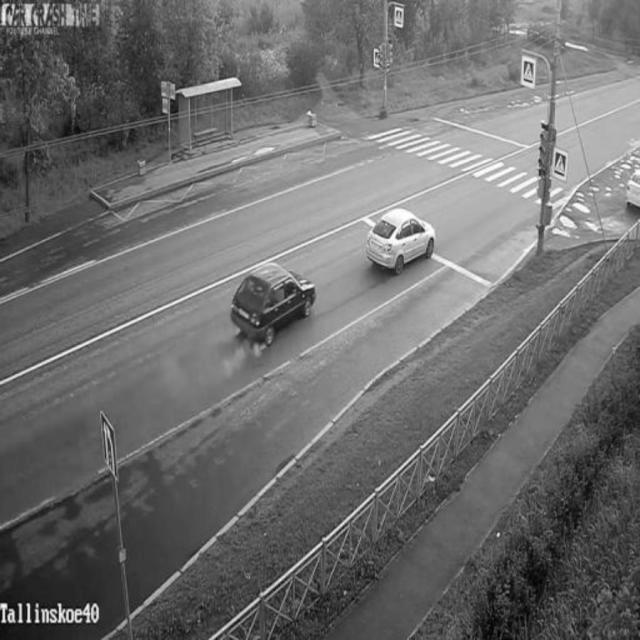vehicle: (230, 262, 316, 343), (365, 211, 436, 275), (621, 168, 640, 209)
